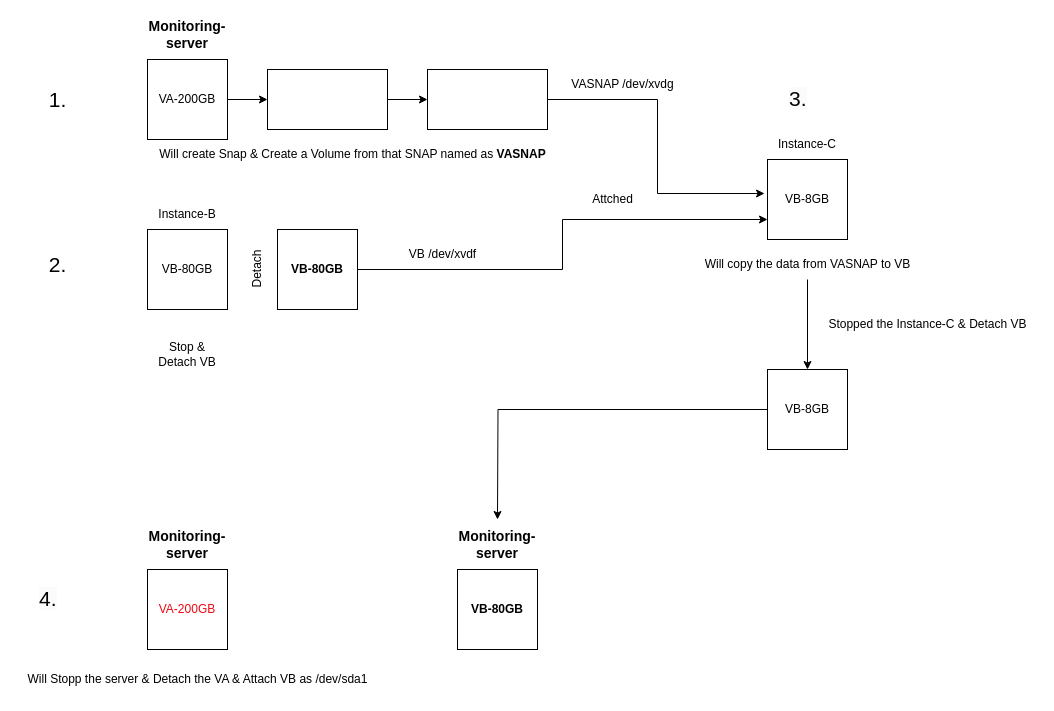
This 1054x711 diagram has some shape labels left out. Each missing label, with the centre of its shape:
SNAP: the point at 327,99
VASNAP - 200GB: the point at 487,99
